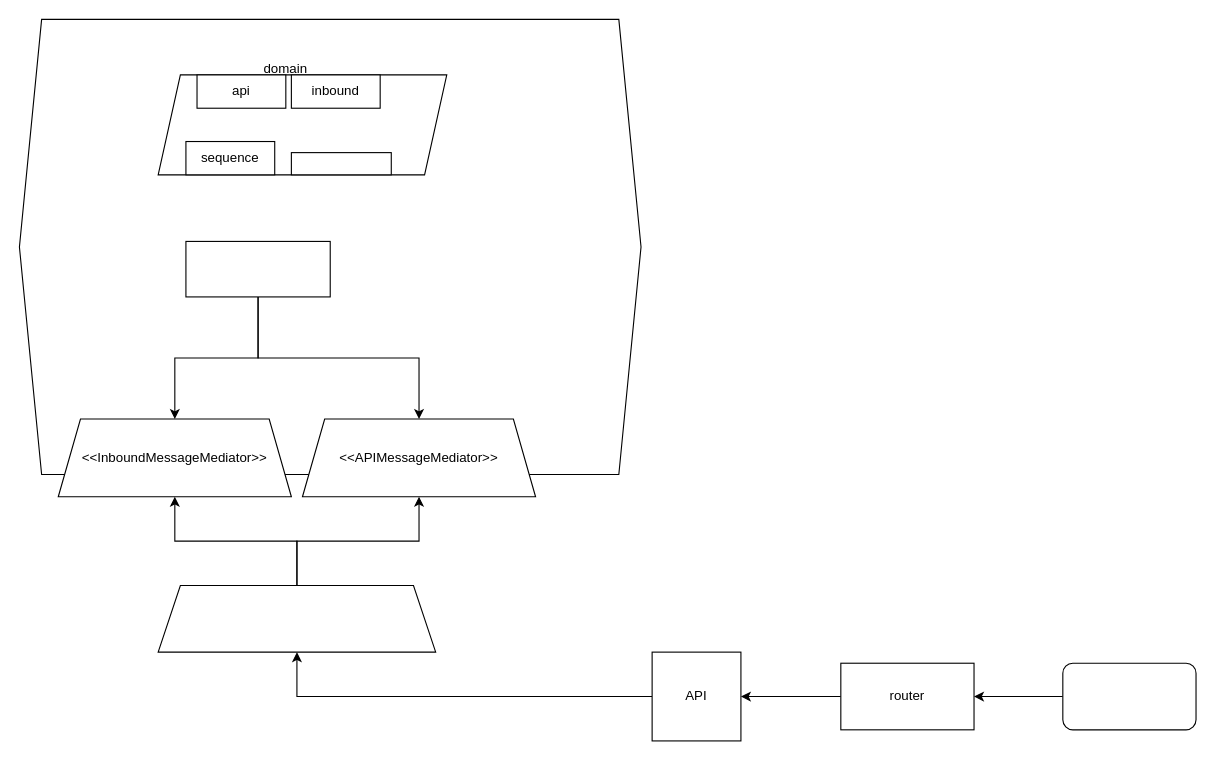
Some shapes in this 1215 by 760 pixel diagram are drawn without their labels. Here are the shapes that lost their labels. From the top down, the centre of each, then its label:
At point 340,163: "<<mediator>>".
At point 257,268: "Mediation Service".
At point 296,618: "MediationEngine".
At point 1129,696: "request".
